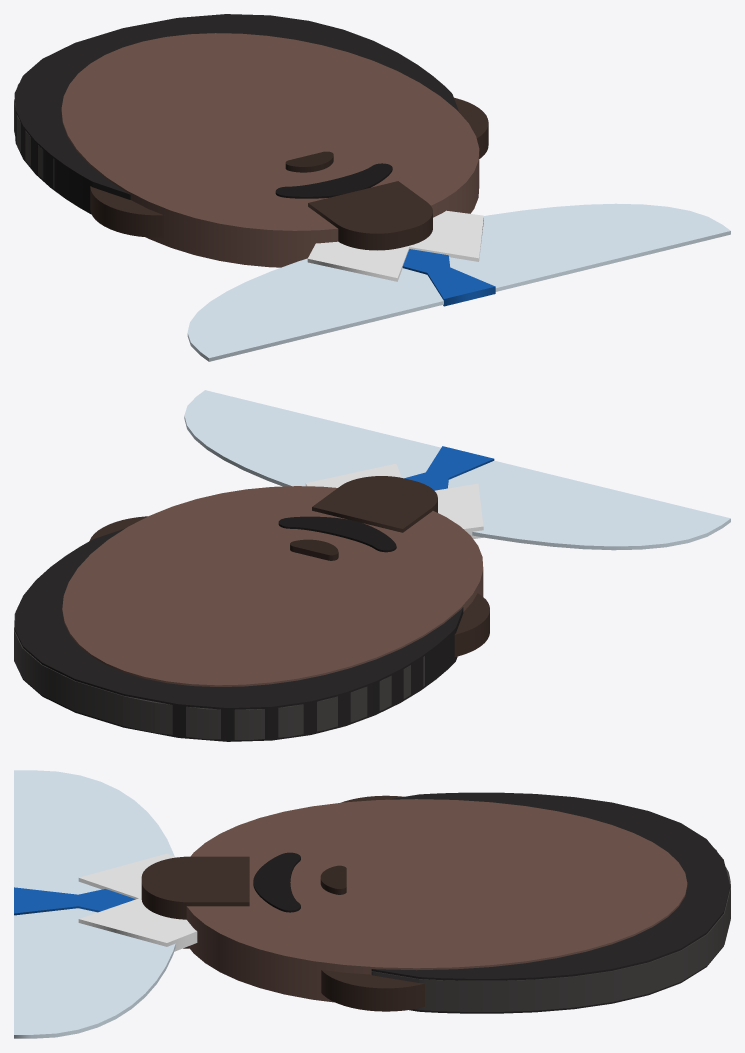
The model's file is emoji_u1f468_1f3ff_200d_1f4bc.glb.
3 renders of one model, top to bottom at view 1: azimuth 30°, elevation 25°; view 2: azimuth 150°, elevation 25°; view 3: azimuth 270°, elevation 25°, orthographic. The views are drawn at different scales.
Visible parts, largest first — view 1: emoji_u1f468_1f3ff_200d_1f4bc; view 2: emoji_u1f468_1f3ff_200d_1f4bc; view 3: emoji_u1f468_1f3ff_200d_1f4bc.
Boxes of the visible parts, bbox=[...] form: emoji_u1f468_1f3ff_200d_1f4bc: bbox=[14, 14, 730, 361]; emoji_u1f468_1f3ff_200d_1f4bc: bbox=[14, 390, 730, 741]; emoji_u1f468_1f3ff_200d_1f4bc: bbox=[14, 770, 730, 1038].
Bounding box in the file's own units: 0.0294 × 0.0026 × 0.0336.
